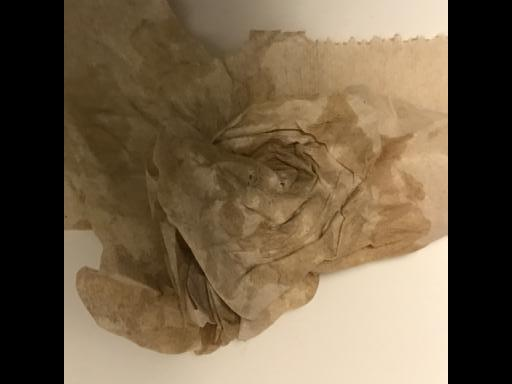trash: (71, 4, 445, 357)
